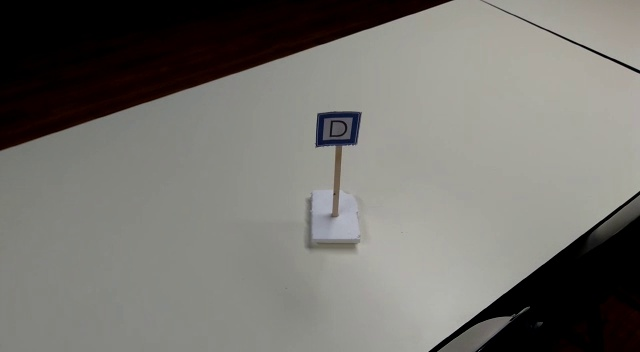durak: (315, 110, 361, 147)
